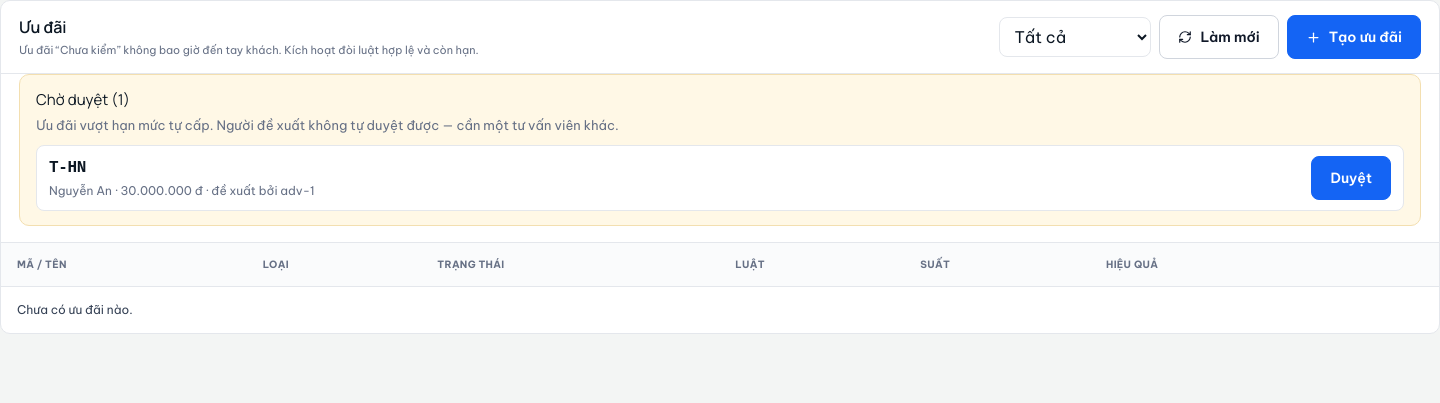
Test: PromotionManager (Ưu đãi của tư vấn viên) › Chờ duyệt: liệt kê ưu đãi vượt hạn mức của đồng nghiệp; tự duyệt bị chặn thì báo rõ
The image size is (1440, 403).
Expected: the text "Nguyễn An · 30.000.000 đ · đề xuất bởi adv-1" is shown, x1=49 y1=182 x2=315 y2=200
Click the button "Duyệt" at (1351, 178), box x1=1312 y1=156 x2=1391 y2=200
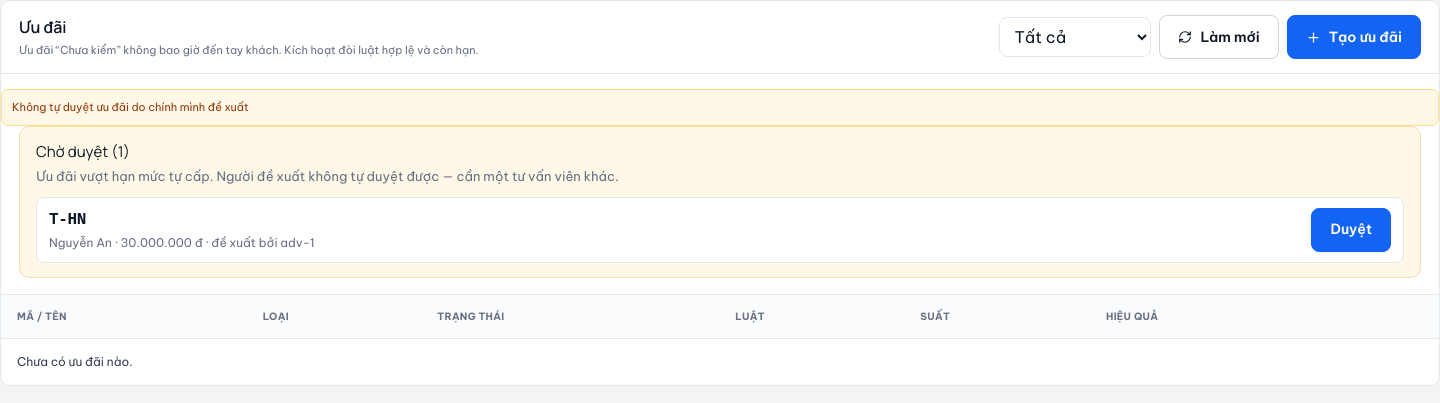
Now the message reads "Không tự duyệt ưu đãi do chính mình đề xuất", box x1=12 y1=100 x2=249 y2=114
